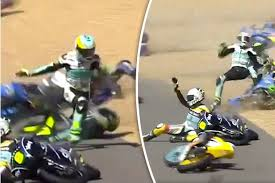helmet: (68, 32, 98, 60), (183, 85, 205, 105), (236, 31, 251, 49)
